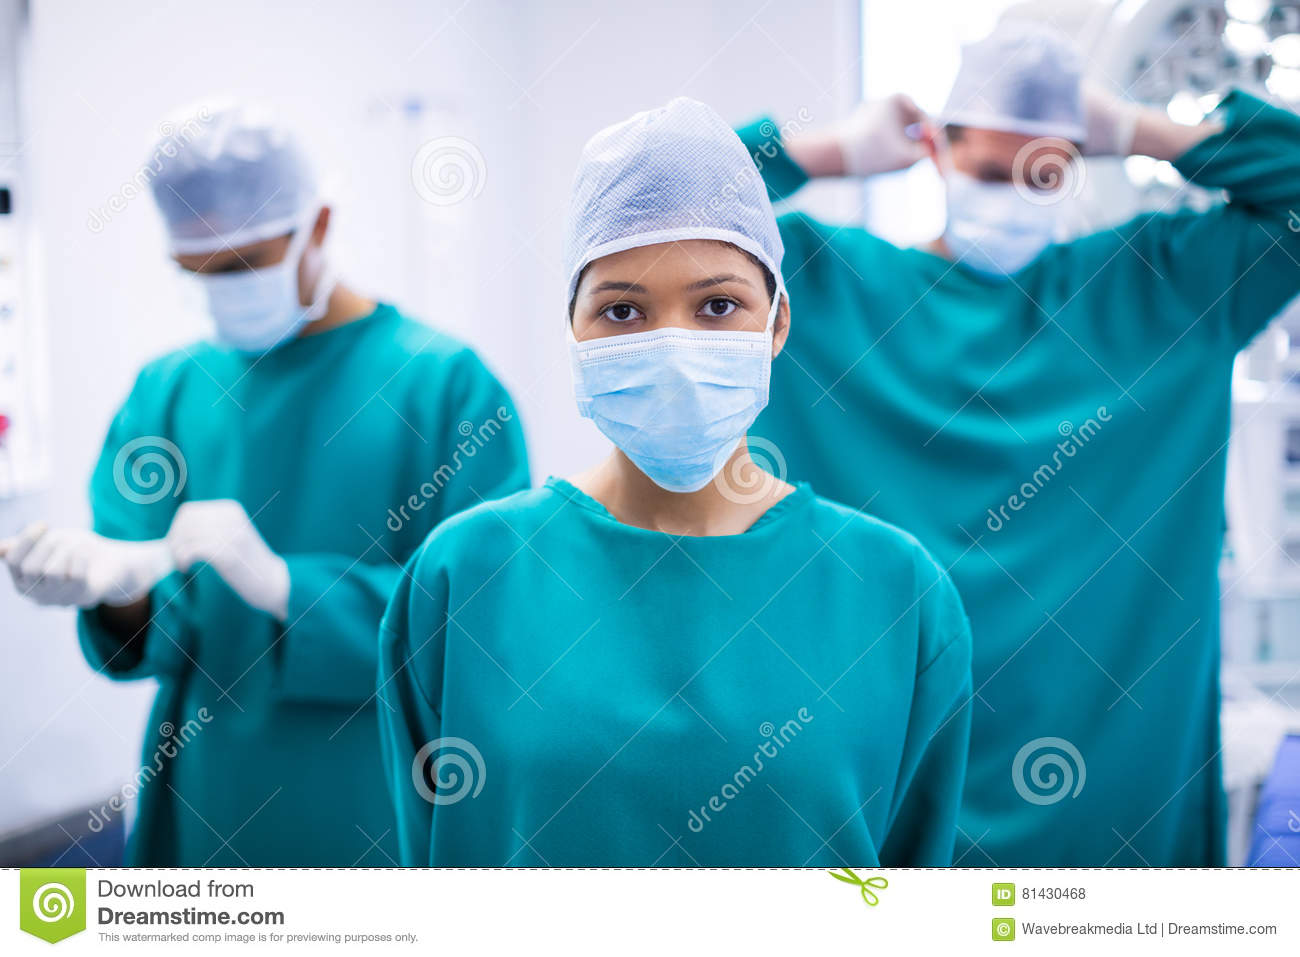mask: (566, 327, 770, 495)
